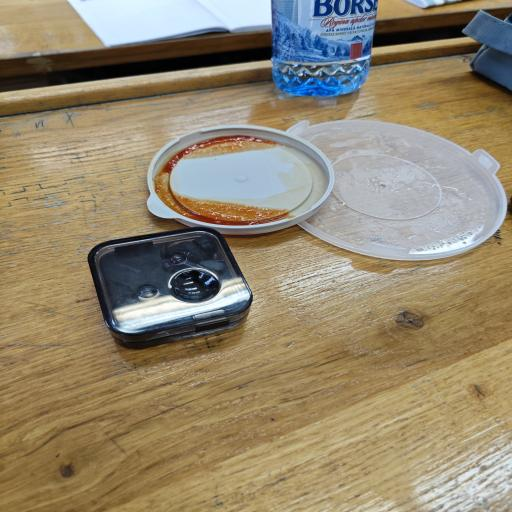Headphones: (78, 226, 270, 354)
